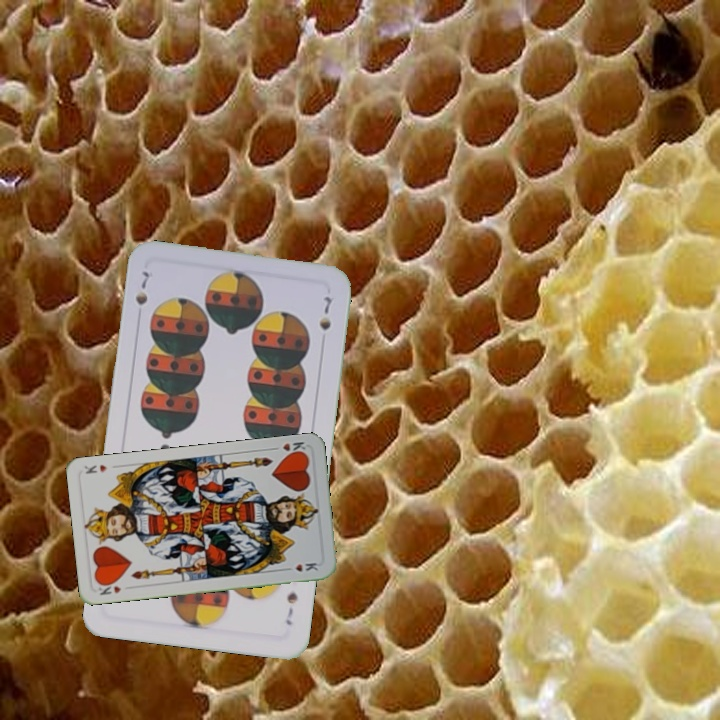HK: (268, 437, 308, 458), (93, 578, 124, 598)
S7: (131, 267, 153, 308), (281, 588, 300, 628)
